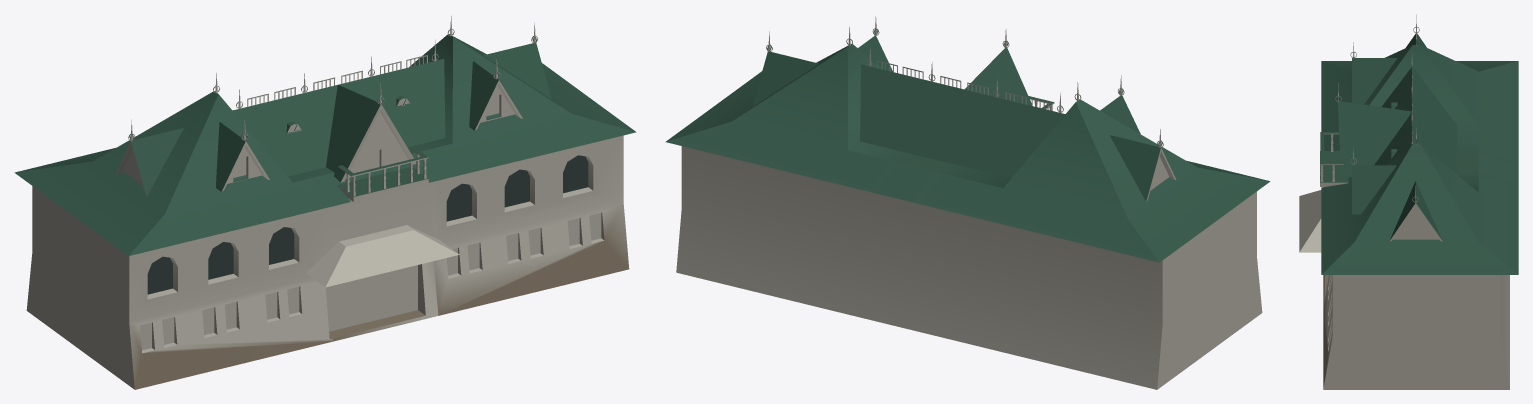
3 renders of one model, left to right at view 1: azimuth 30°, elevation 25°; view 2: azimuth 150°, elevation 25°; view 3: azimuth 270°, elevation 25°, orthographic. The views are drawn at different scales.
Visible parts, largest first — view 1: polySurface21:PIV; view 2: polySurface21:PIV; view 3: polySurface21:PIV.
Boxes of the visible parts, x1,y1,x2,y2 form: polySurface21:PIV: (14,16,636,389); polySurface21:PIV: (666,16,1270,389); polySurface21:PIV: (1299,14,1518,389).
Size of the model in its own units: 67.23 by 31.17 by 29.13.
